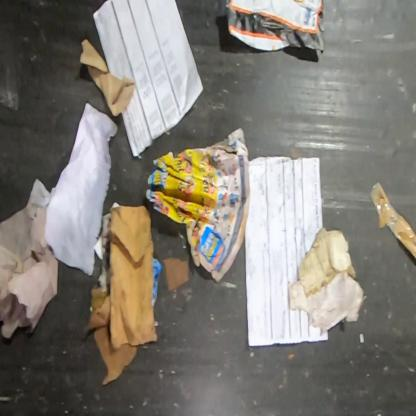cardboard: (106, 204, 159, 353)
soft_plastic: (224, 0, 325, 52)
